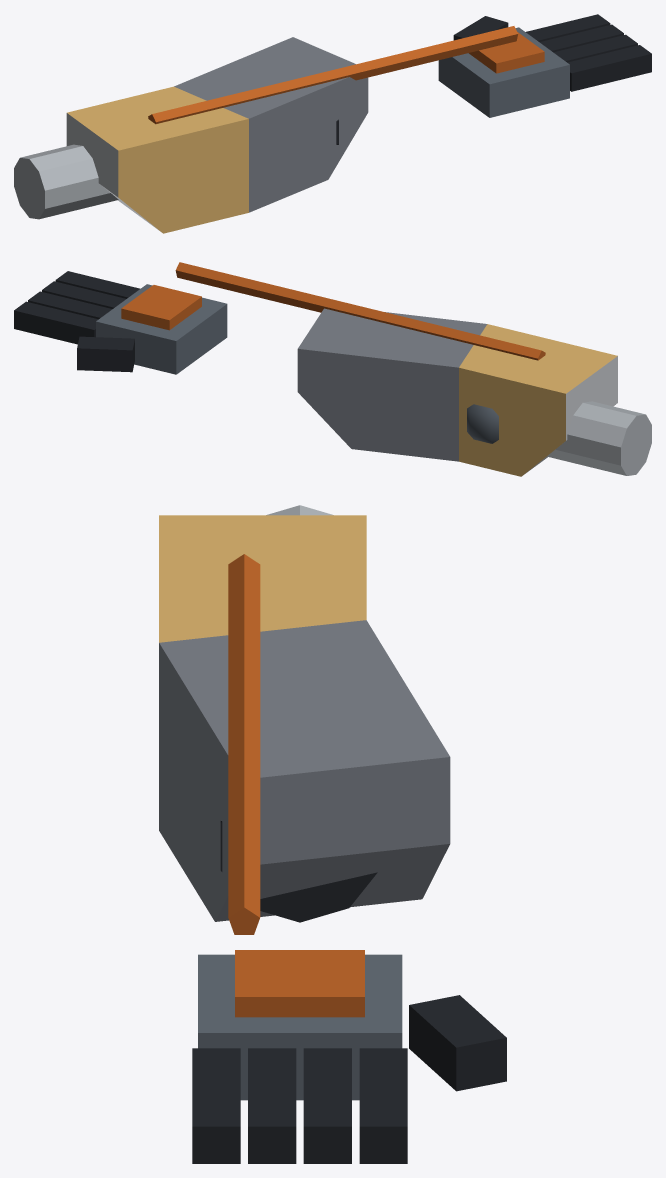
Rendered from prosthesis-arm.glb.
3 renders of one model, top to bottom at view 1: azimuth 30°, elevation 25°; view 2: azimuth 150°, elevation 25°; view 3: azimuth 270°, elevation 25°, orthographic. The views are drawn at different scales.
Visible parts, largest first — view 1: prosthesis-arm; view 2: prosthesis-arm; view 3: prosthesis-arm.
Part boxes in pixels (x1,y1,x2,y2): prosthesis-arm: [14, 14, 651, 233]; prosthesis-arm: [14, 262, 651, 476]; prosthesis-arm: [159, 505, 506, 1163].
Bounding box in the file's own units: 0.74 × 0.1206 × 0.1871.
